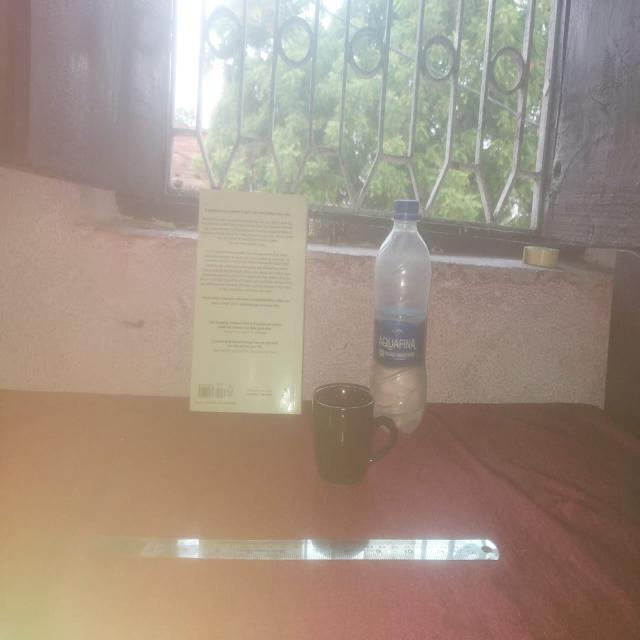Book: (186, 184, 309, 418)
Bottle: (370, 196, 434, 436)
scale: (90, 527, 512, 567)
